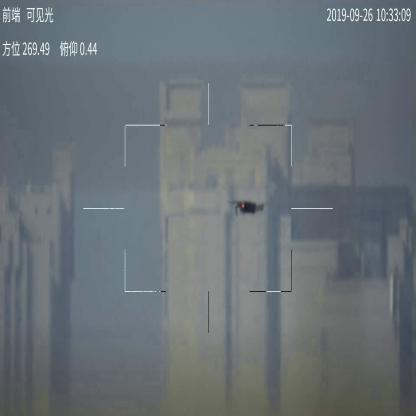uav: (227, 198, 269, 216)
